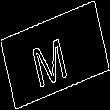M_N: (34, 24, 76, 86)
